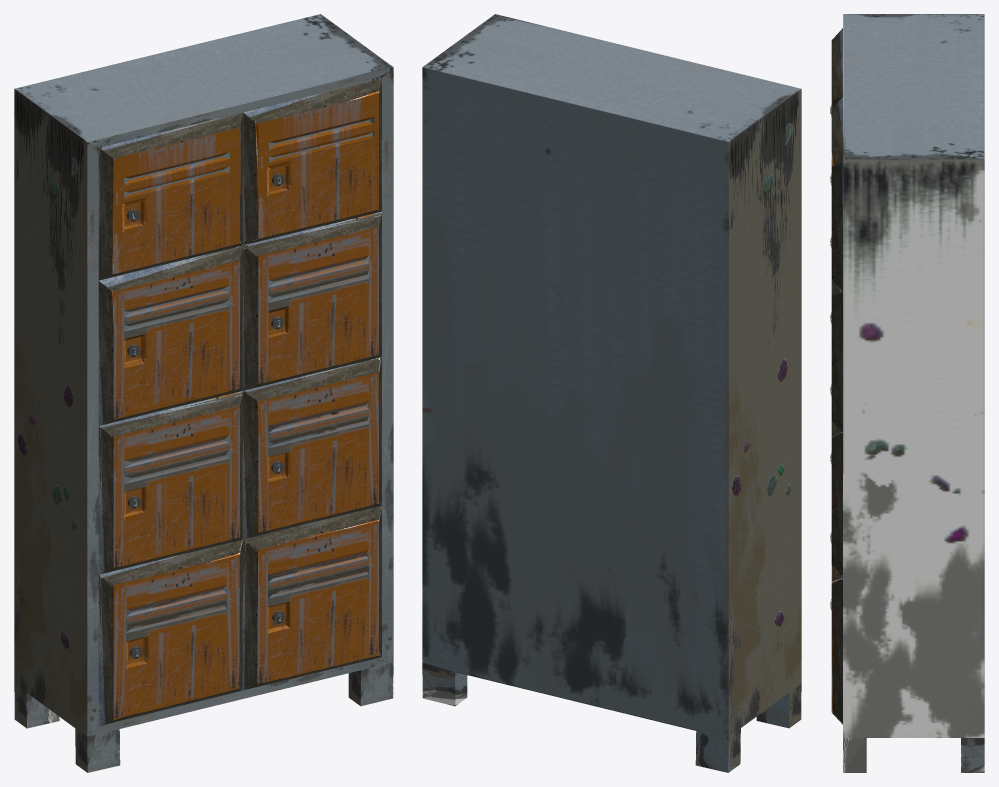
File: casier terminés.FBX
3 renders of one model, left to right at view 1: azimuth 30°, elevation 25°; view 2: azimuth 150°, elevation 25°; view 3: azimuth 270°, elevation 25°, orthographic. The views are drawn at different scales.
Visible parts, largest first — view 1: Objet003; view 2: Objet003; view 3: Objet003.
Part boxes in pixels (<box>): Objet003: <box>14,14,393,772</box>; Objet003: <box>422,14,801,772</box>; Objet003: <box>830,14,984,772</box>.
Size of the model in its own units: 83.91 by 165 by 37.64.
